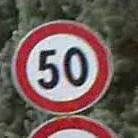limite 50: (10, 18, 114, 111)
